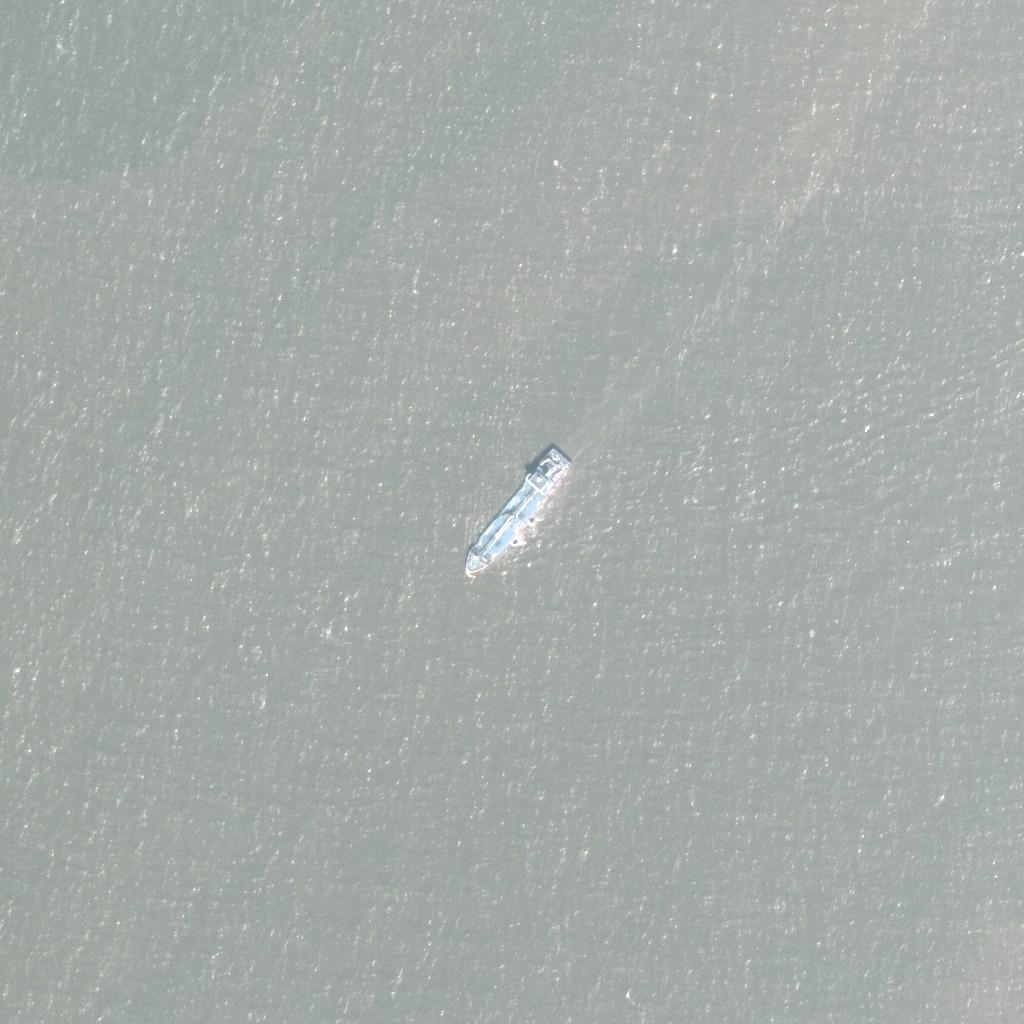ship: (462, 438, 574, 582)
